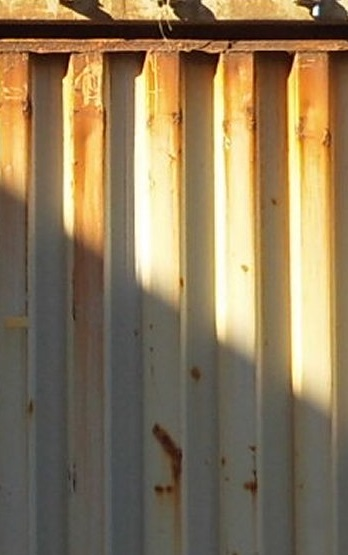container_no_door: (1, 37, 348, 555)
